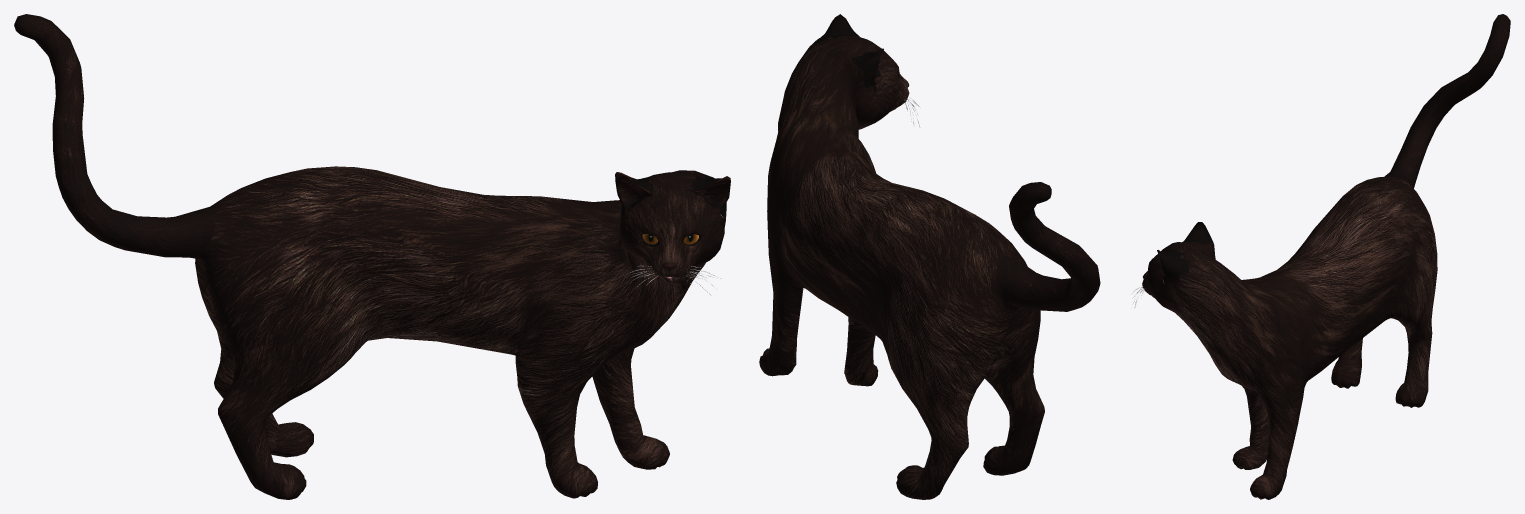
File: Yagurandi.glb
The picture shows the model from 3 angles, left to right: view 1: azimuth 30°, elevation 25°; view 2: azimuth 150°, elevation 25°; view 3: azimuth 270°, elevation 25°; orthographic projection. The views are drawn at different scales.
Visible parts, largest first — view 1: Yaguarundi; view 2: Yaguarundi; view 3: Yaguarundi.
Boxes of the visible parts, x1,y1,x2,y2 form: Yaguarundi: (14, 14, 730, 499); Yaguarundi: (759, 14, 1100, 499); Yaguarundi: (1130, 14, 1510, 499).
Size of the model in its own units: 5.4 by 4.58 by 4.96.
1 material, 1 textured.
